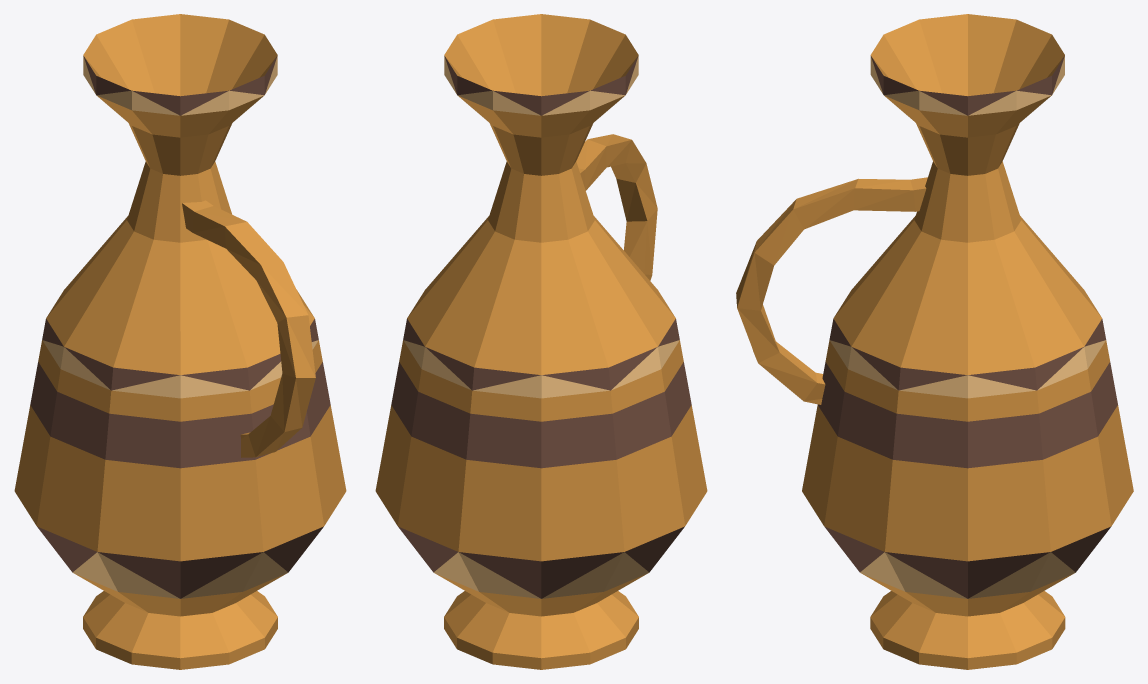
The model's file is amphora.glb.
3 views of the same model, side by side, from view 1: azimuth 30°, elevation 25°; view 2: azimuth 150°, elevation 25°; view 3: azimuth 270°, elevation 25° (orthographic).
Parts seen in each view (by area): view 1: Node; view 2: Node; view 3: Node.
Boxes of the visible parts, x1=… form: Node: x1=14, y1=14, x2=346, y2=669; Node: x1=375, y1=14, x2=707, y2=669; Node: x1=736, y1=14, x2=1133, y2=669.
Bounding box in the file's own units: 0.7658 × 1.46 × 0.9174.
